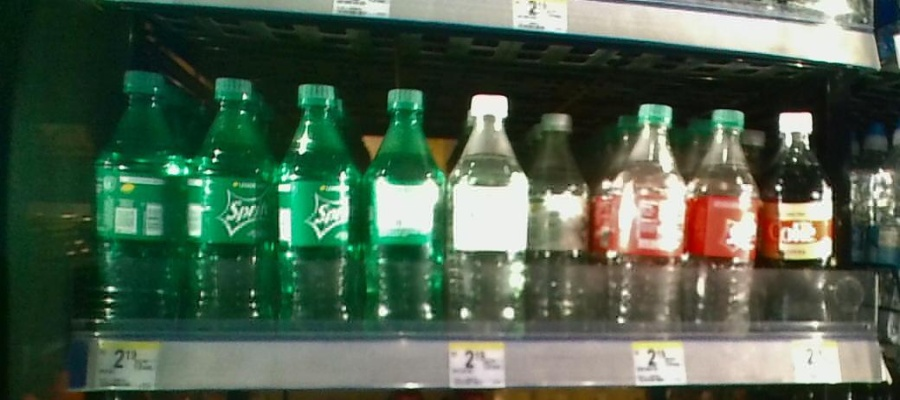bottle: (94, 69, 186, 329), (363, 69, 446, 346), (279, 72, 357, 342), (193, 68, 269, 344), (687, 78, 761, 344), (451, 80, 525, 342), (527, 77, 599, 344), (608, 78, 681, 340), (766, 78, 835, 340)
